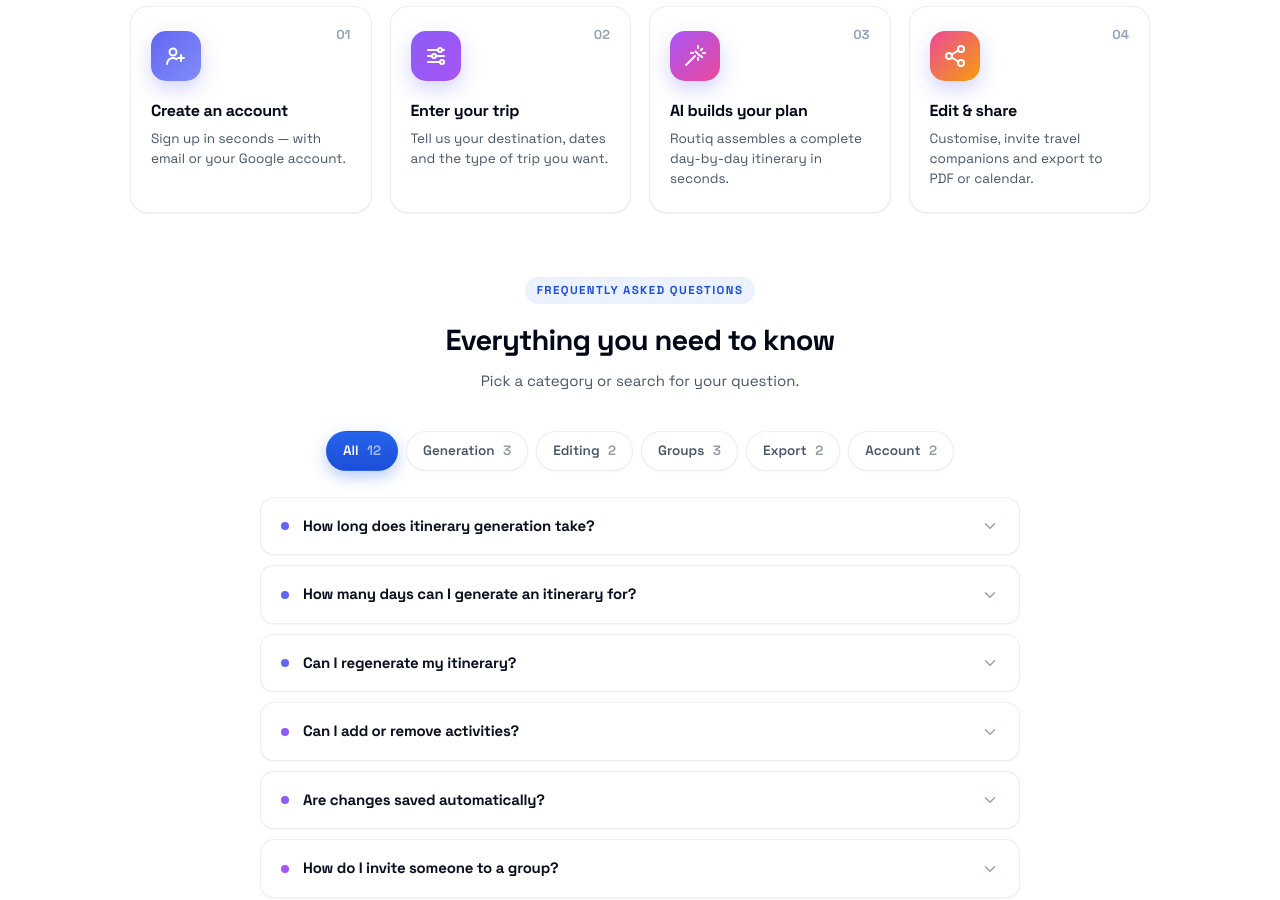
Test: HelpPage › filters FAQ by category tabs when search is empty
This screenshot has width=1280, height=900.
(page scrolled)
// Click "Groups" tab
Click the button "Groups 3" at (689, 451), box [641,431,738,471]
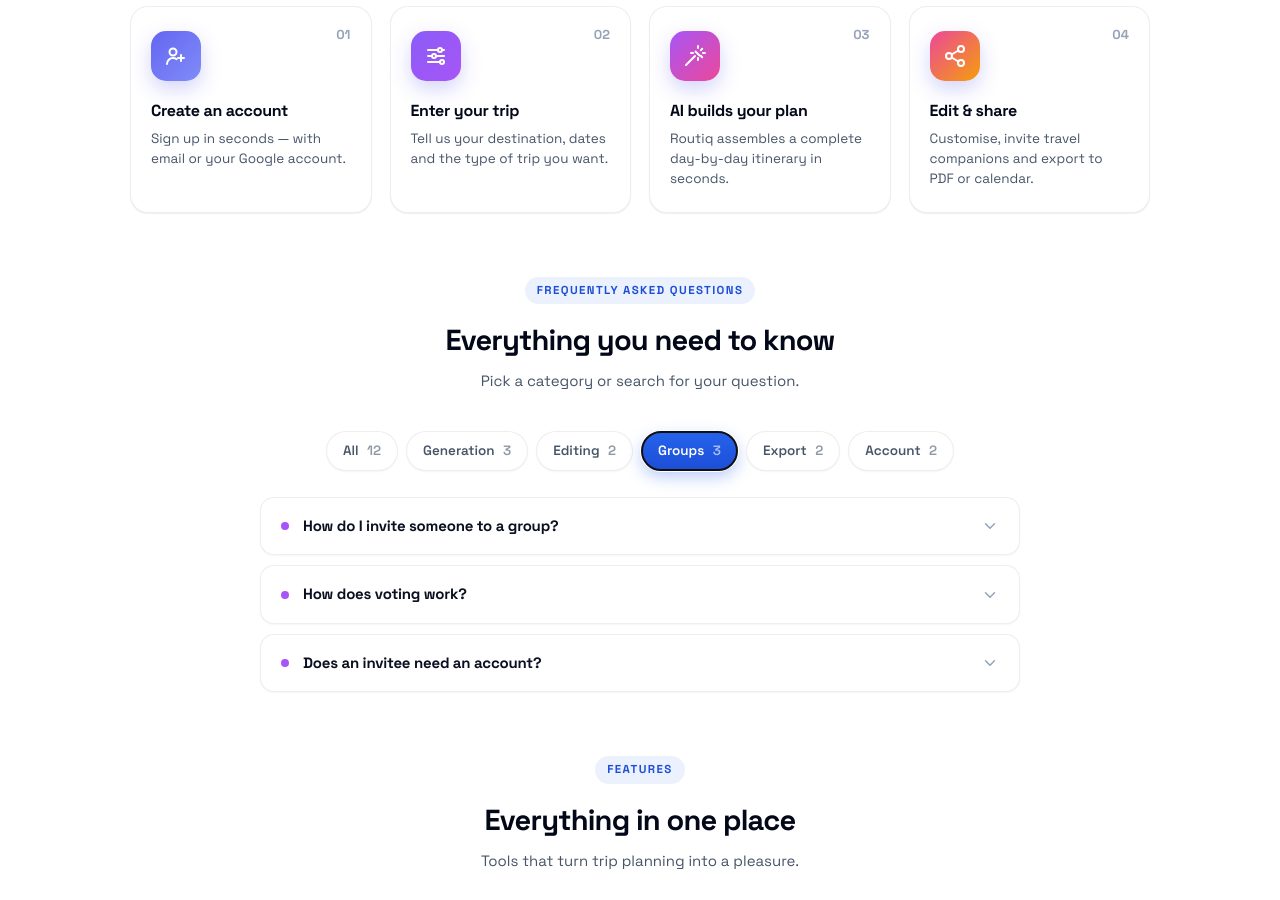
Check: the text "How does voting work?" is shown, box [303,584,467,603]
Check: the button "How long does itinerary generation take?" is gone
